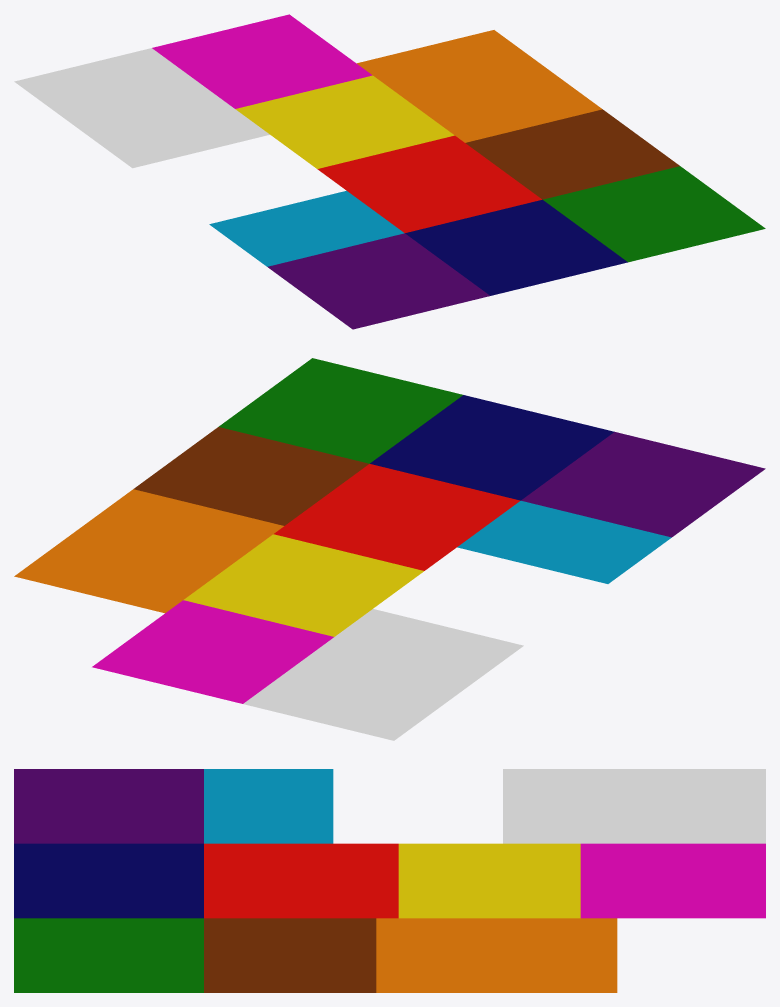
Rendered from MinimapMesh_FloorArea.glb.
3 views of the same model, one above another, from view 1: azimuth 30°, elevation 25°; view 2: azimuth 150°, elevation 25°; view 3: azimuth 270°, elevation 25° (orthographic). The views are drawn at different scales.
Parts seen in each view (by area): view 1: Plane.019, Plane.012, Plane.014, Plane.017, Plane.011, Plane.013, Plane.016, Plane.015, Plane.010, Plane.018; view 2: Plane.019, Plane.012, Plane.014, Plane.017, Plane.011, Plane.013, Plane.016, Plane.015, Plane.010, Plane.018; view 3: Plane.019, Plane.012, Plane.014, Plane.013, Plane.011, Plane.017, Plane.016, Plane.015, Plane.010, Plane.018.
Boxes of the visible parts, box(x1,y1,x2,y2) form: Plane.019: box(14, 48, 269, 168); Plane.012: box(357, 30, 602, 142); Plane.014: box(317, 135, 541, 232); Plane.017: box(267, 233, 489, 329); Plane.011: box(543, 166, 765, 262); Plane.013: box(405, 199, 627, 295); Plane.016: box(152, 14, 372, 108); Plane.015: box(235, 75, 454, 168); Plane.010: box(465, 109, 679, 199); Plane.018: box(209, 190, 404, 266); Plane.019: box(243, 609, 523, 740); Plane.012: box(14, 489, 283, 613); Plane.014: box(273, 464, 520, 570); Plane.017: box(521, 432, 765, 537); Plane.011: box(218, 358, 462, 463); Plane.013: box(370, 395, 614, 500); Plane.016: box(92, 600, 333, 703); Plane.015: box(183, 534, 423, 636); Plane.010: box(133, 427, 368, 525); Plane.018: box(457, 501, 671, 583); Plane.019: box(503, 769, 765, 843); Plane.012: box(376, 918, 617, 992); Plane.014: box(204, 843, 398, 918); Plane.013: box(14, 843, 203, 918); Plane.011: box(14, 918, 203, 992); Plane.017: box(14, 769, 203, 843); Plane.016: box(580, 843, 765, 918); Plane.015: box(398, 843, 580, 918); Plane.010: box(204, 918, 376, 992); Plane.018: box(204, 769, 333, 843).
Bounding box in the file's own units: 50.73 × 0 × 72.05.
